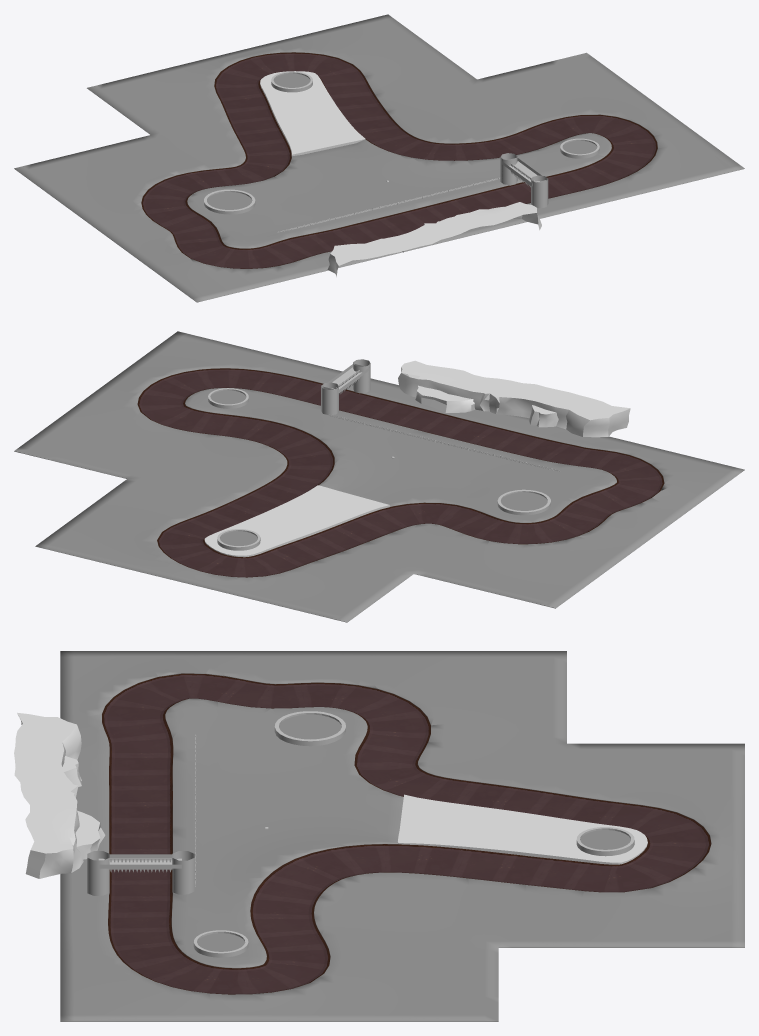
Rendered from Track_Layout.FBX.
3 views of the same model, one above another, from view 1: azimuth 30°, elevation 25°; view 2: azimuth 150°, elevation 25°; view 3: azimuth 270°, elevation 25° (orthographic). The views are drawn at different scales.
Parts seen in each view (by area): view 1: Grass_Joined, Collapsed_Road, Plaza, RockEdge, Gate, Fountain_Water, Fountain; view 2: Grass_Joined, Collapsed_Road, RockEdge, Plaza, Gate, Fountain_Water, Fountain; view 3: Grass_Joined, Collapsed_Road, RockEdge, Plaza, Gate, Fountain_Water (×3), Fountain (×3).
Boxes of the visible parts, box(x1,y1,x2,y2) form: Grass_Joined: box(14, 14, 744, 302); Collapsed_Road: box(141, 52, 657, 268); Plaza: box(260, 71, 365, 156); RockEdge: box(327, 202, 541, 276); Gate: box(500, 153, 548, 208); Fountain_Water: box(207, 192, 251, 209); Fountain: box(204, 189, 255, 214); Grass_Joined: box(14, 331, 744, 622); Collapsed_Road: box(137, 368, 664, 577); RockEdge: box(398, 360, 630, 437); Plaza: box(204, 485, 389, 557); Gate: box(321, 359, 370, 415); Fountain_Water: box(501, 492, 547, 510); Fountain: box(497, 489, 550, 515); Grass_Joined: box(60, 651, 744, 1021); Collapsed_Road: box(102, 673, 711, 994); RockEdge: box(14, 712, 105, 878); Plaza: box(397, 794, 647, 864); Gate: box(87, 851, 194, 895); Fountain_Water (×3): box(197, 714, 630, 951); Fountain (×3): box(193, 711, 634, 957).
Bounding box in the file's own units: 320 × 267 × 15.22.
